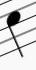HC: (5, 1, 27, 60)
